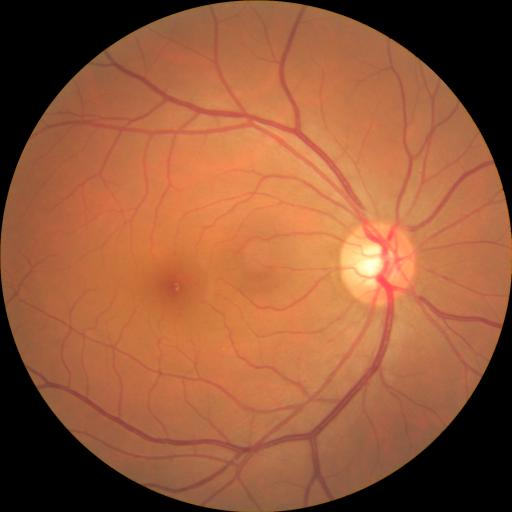Optic Cup: (357, 244, 400, 288)
Optic Disc: (340, 222, 413, 305)
